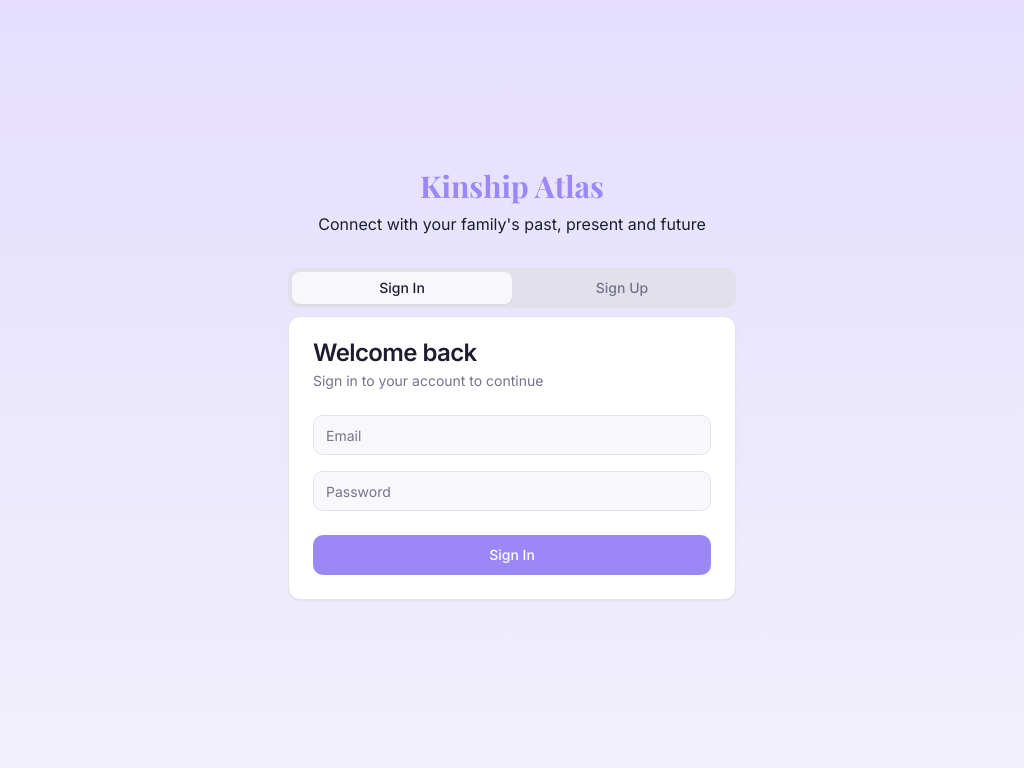
Test: Auth › should switch to sign up tab
Click the tab "Sign Up" at (622, 288), box top-left (512, 272), bottom-right (732, 304)
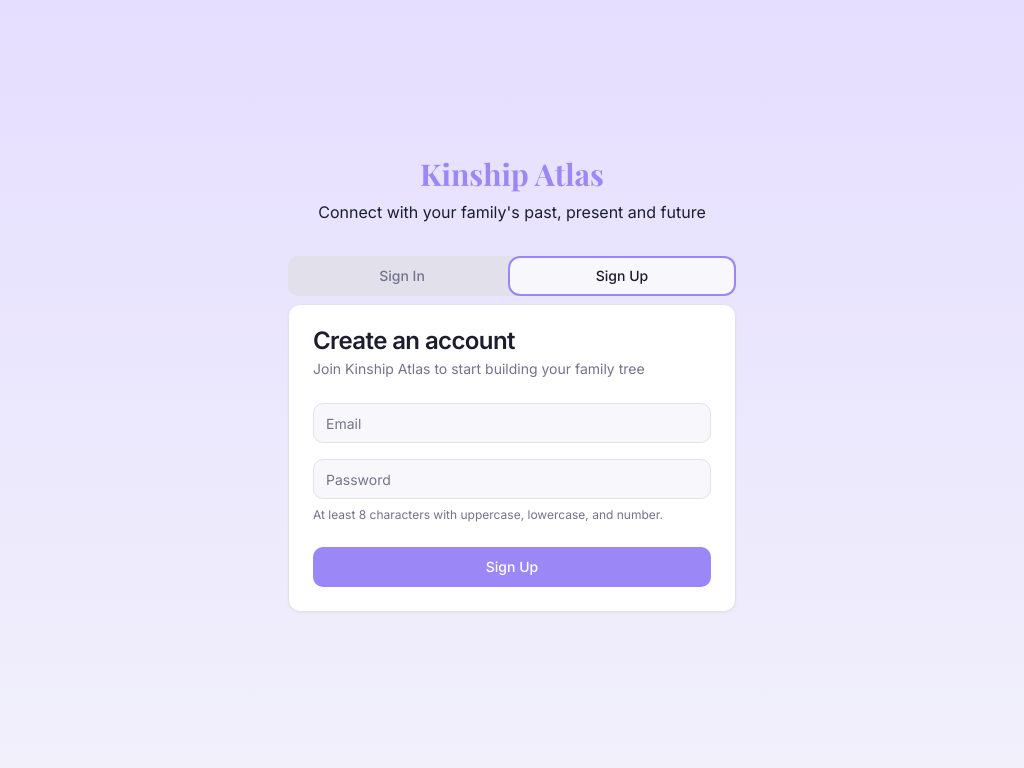
Result: the heading "Create an account" is shown at top-left (313, 326), bottom-right (515, 355)
Result: the button "Sign Up" is shown at top-left (313, 547), bottom-right (711, 587)
